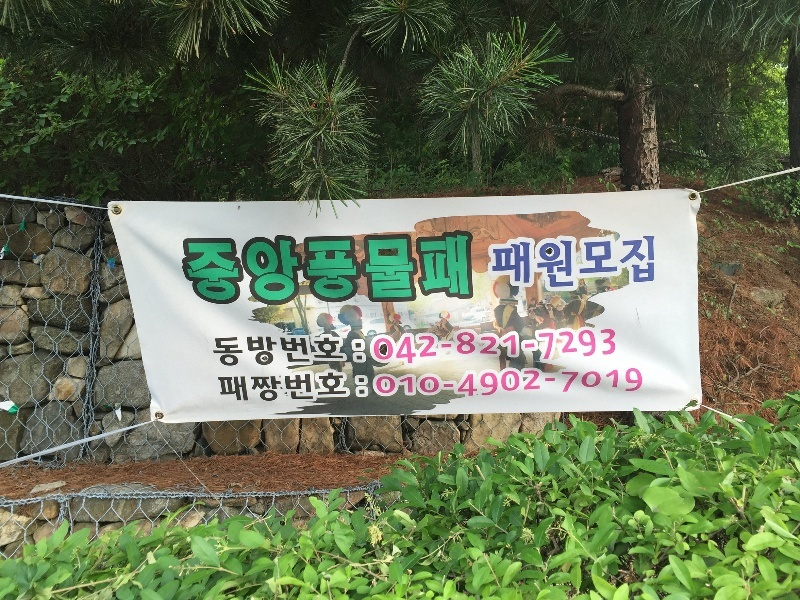text: (193, 231, 208, 308), (209, 231, 224, 308), (225, 231, 240, 308), (241, 231, 256, 308), (257, 231, 272, 308), (273, 231, 288, 308), (289, 231, 304, 308), (305, 231, 320, 308), (321, 231, 336, 308), (337, 231, 352, 308), (353, 231, 368, 308), (369, 231, 384, 308), (385, 231, 400, 308), (401, 231, 416, 308), (417, 231, 432, 308), (433, 231, 448, 308), (449, 231, 464, 308), (179, 231, 192, 308), (497, 235, 512, 291), (513, 235, 528, 291), (529, 235, 544, 291), (545, 235, 560, 291), (561, 235, 576, 291), (577, 235, 592, 291), (593, 235, 608, 291), (609, 235, 624, 291), (625, 235, 640, 291), (641, 235, 656, 291), (465, 231, 475, 308), (385, 329, 400, 368), (401, 329, 416, 368), (417, 329, 432, 368), (433, 329, 448, 368), (449, 329, 464, 368), (465, 329, 480, 368), (481, 329, 496, 368), (497, 329, 512, 368), (513, 329, 528, 368), (529, 329, 544, 368), (545, 329, 560, 368), (561, 329, 576, 368), (577, 329, 592, 368), (593, 329, 608, 368), (370, 329, 384, 368), (385, 367, 400, 401), (401, 367, 416, 401), (417, 367, 432, 401), (433, 367, 448, 401), (449, 367, 464, 401), (465, 367, 480, 401), (481, 367, 496, 401), (497, 367, 512, 401), (513, 367, 528, 401), (529, 367, 544, 401), (545, 367, 560, 401), (561, 367, 576, 401), (577, 367, 592, 401), (593, 367, 608, 401), (609, 367, 624, 401), (625, 367, 640, 401), (225, 336, 240, 369), (241, 336, 256, 369), (257, 336, 272, 369), (273, 336, 288, 369), (289, 336, 304, 369), (305, 336, 320, 369), (321, 336, 336, 369), (337, 336, 352, 369), (225, 374, 240, 406), (241, 374, 256, 406), (257, 374, 272, 406), (273, 374, 288, 406), (289, 374, 304, 406), (305, 374, 320, 406), (321, 374, 336, 406), (337, 374, 352, 406), (353, 374, 368, 406), (353, 336, 367, 369), (373, 367, 384, 401), (213, 336, 224, 369), (214, 374, 224, 406), (609, 329, 617, 368), (492, 235, 496, 291), (641, 367, 644, 401), (657, 235, 658, 291), (369, 374, 370, 406)
